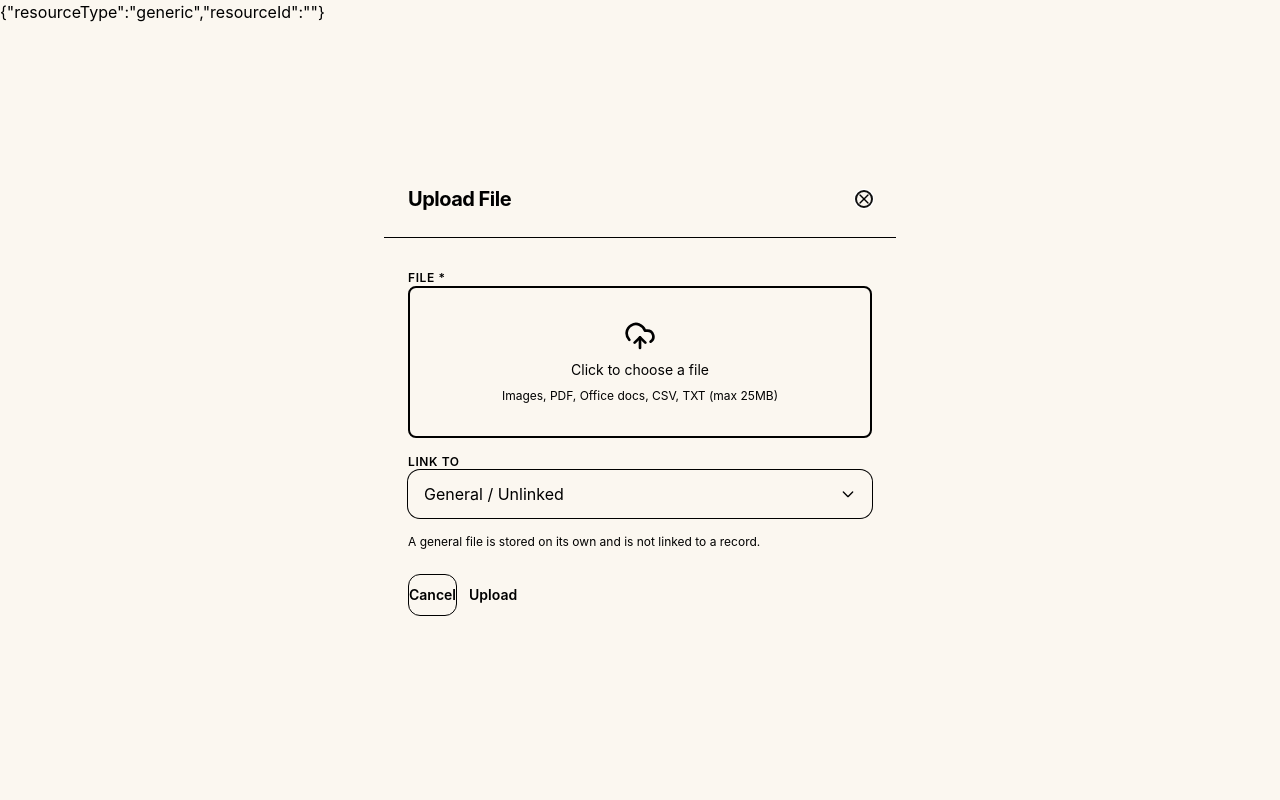
Test: A-118 — the record id is offered only for a linkable type › Device shows the record-id field
What coordinates should you click on to do the following:
click the button "General / Unlinked"
I would click on:
 (494, 494)
Its box is [408,470,872,518].
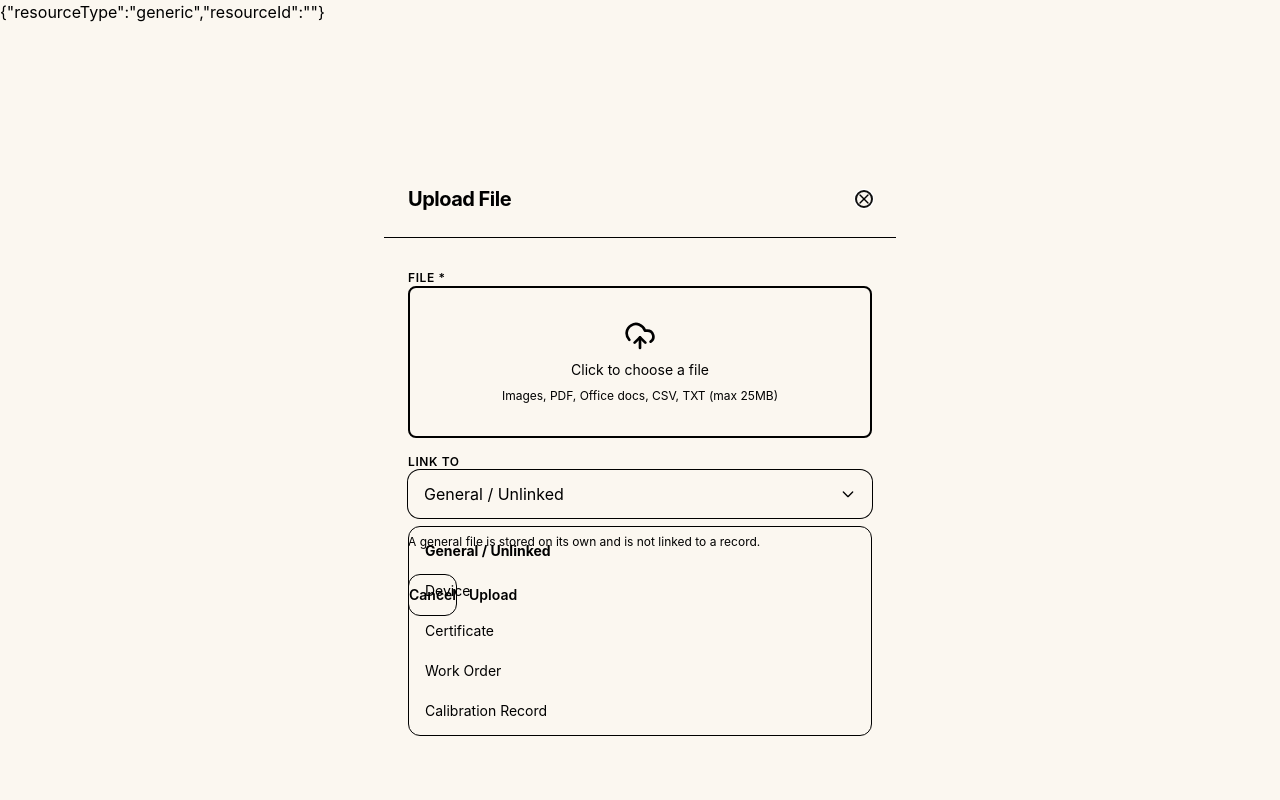
What coordinates should you click on to do the following:
click the option "Device"
I would click on:
 (448, 590)
Its box is [425,582,470,598].
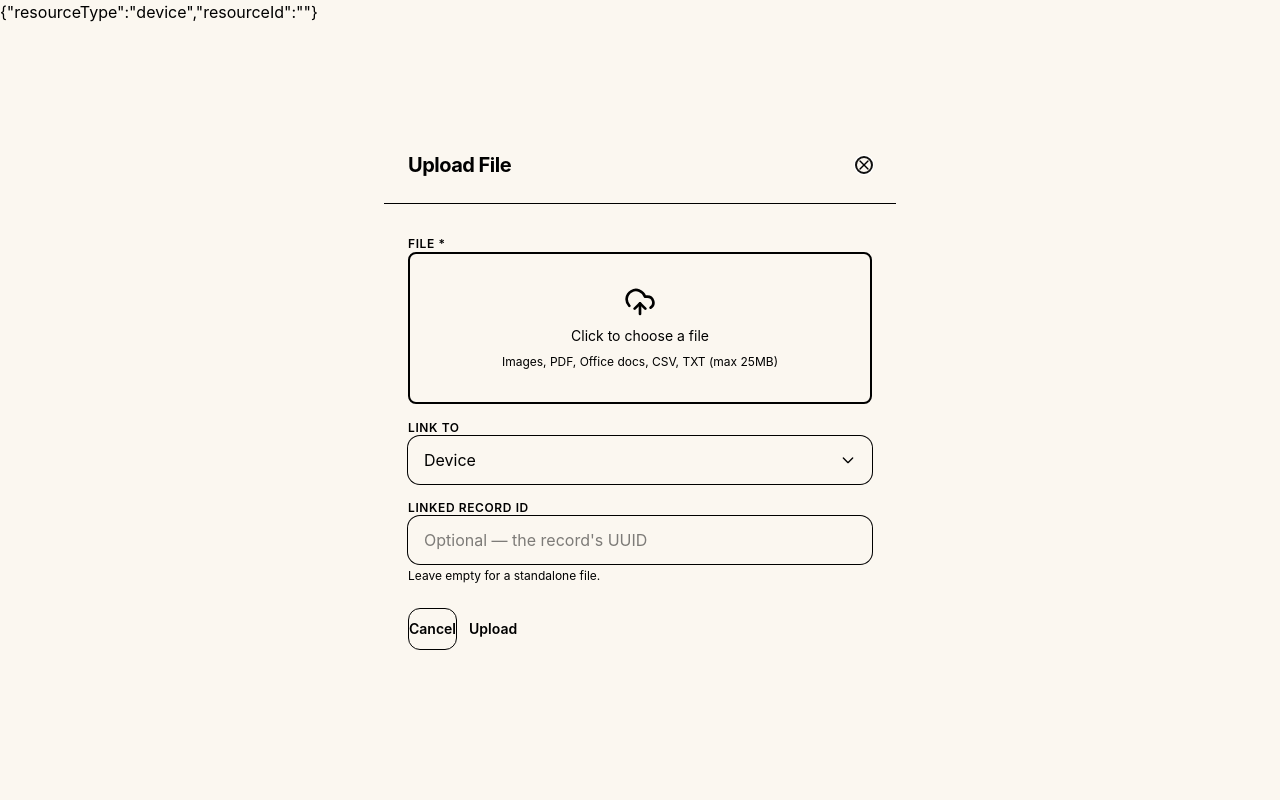
Result: the field labelled "Linked Record ID" is shown at [408,516,872,564]
